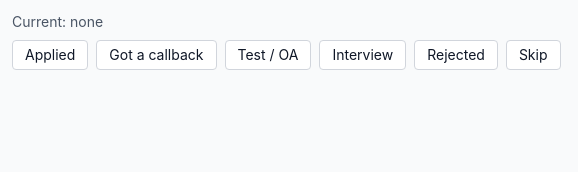
Test: StatusForm › updates the status optimistically and keeps it when the server confirms
Click the button "Applied" at (50, 55), box x1=12 y1=40 x2=88 y2=70
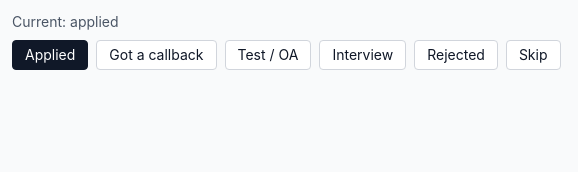
expect the text "Current: applied" is shown: met, box x1=12 y1=13 x2=119 y2=30
